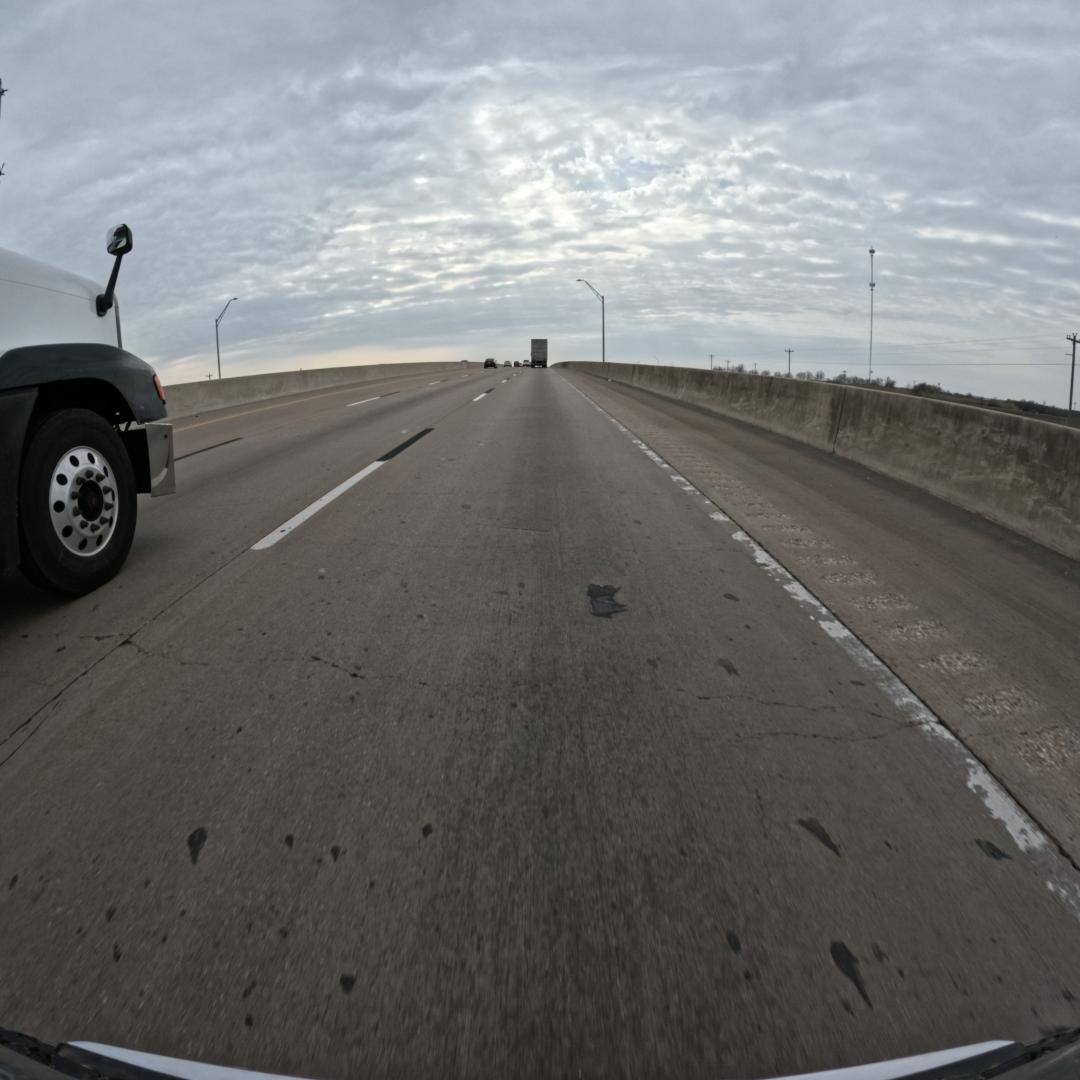lane0: (0, 371, 1080, 1076)
lane1: (0, 371, 513, 744)
